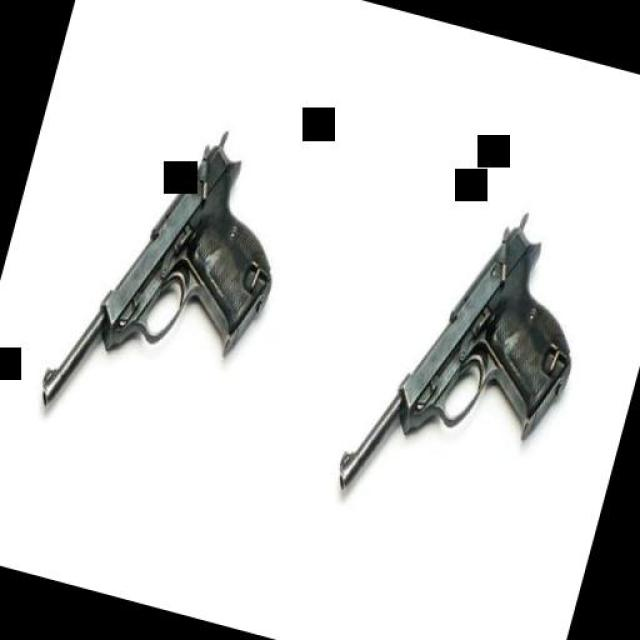gun: (24, 78, 311, 482), (324, 166, 608, 566)
